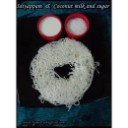idiyappam: (30, 41, 99, 103)
